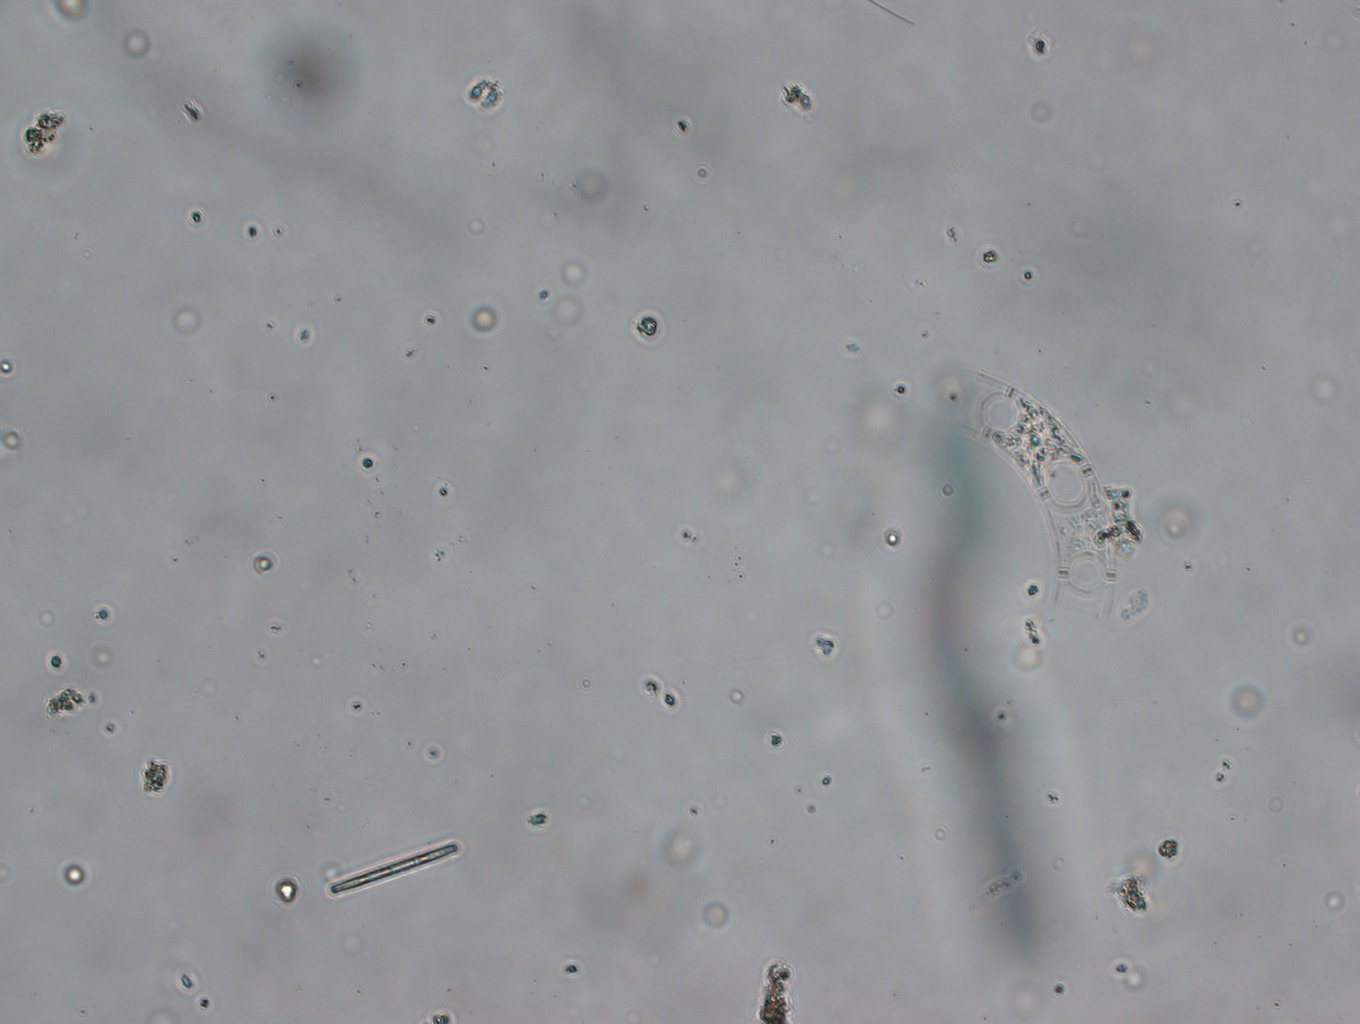eucampia: (879, 356, 1161, 657)
